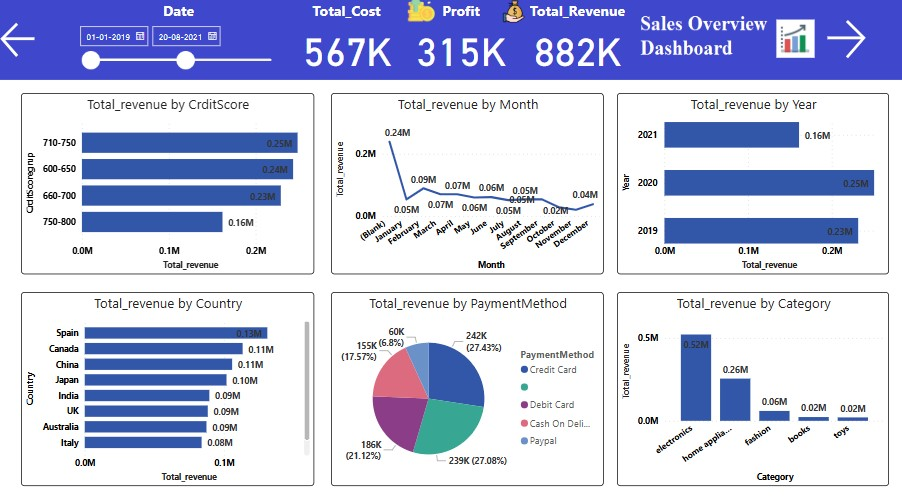

What the dashboard file says about the page in this screenshot:
{"tool":"powerbi","page":{"name":"Sales Overview Dashboard","canvas":[1280,720],"ordinal":1},"visuals":[{"type":"card","title":"Total_Revenue","fields":{"Values":["New_MEASURE.Total_revenue"]},"box":[746.8,12.7,145.4,107.3],"z":0},{"type":"card","title":"Total_Cost","fields":{"Values":["New_MEASURE.Total_Cost"]},"box":[417.9,12.7,151.1,107.3],"z":1000},{"type":"card","title":"Profit","fields":{"Values":["New_MEASURE.Profit"]},"box":[580.2,12.7,149.6,107.3],"z":2000},{"type":"lineChart","fields":{"Y":["New_MEASURE.Total_revenue"],"Category":["Customer_Insights.OrderConfirmationDate.Variation.Date Hierarchy.Month"]},"box":[471.5,144,385.4,255.5],"z":3000},{"type":"pieChart","fields":{"Category":["Customer_Insights.PaymentMethod"],"Y":["New_MEASURE.Total_revenue"]},"box":[471.5,424.9,385.4,273.9],"z":4000},{"type":"barChart","fields":{"Y":["New_MEASURE.Total_revenue"],"Category":["Customer_Insights.OrderConfirmationDate.Variation.Date Hierarchy.Year"]},"box":[875.3,144,384,255.5],"z":5000},{"type":"slicer","title":"Date","fields":{"Values":["Customer_Insights.OrderConfirmationDate"]},"box":[104.5,12.7,303.5,98.8],"z":6000},{"type":"actionButton","box":[1164.7,29.6,94.6,72],"z":7000},{"type":"actionButton","box":[0,33.9,158.1,64.9],"z":8000},{"type":"columnChart","fields":{"Category":["Customer_Insights.Category"],"Y":["New_MEASURE.Total_revenue"]},"box":[875.3,424.9,384,273.9],"z":9000},{"type":"barChart","fields":{"Category":["Customer_Insights.Country"],"Y":["New_MEASURE.Total_revenue"]},"box":[33.9,424.9,413.6,273.9],"z":10000},{"type":"image","box":[568.9,0,59.3,48],"z":11000},{"type":"image","box":[703.1,8.5,53.6,40.9],"z":12000},{"type":"image","box":[1067.3,35.3,120,63.5],"z":13000},{"type":"barChart","title":"Total_revenue by CrditScore","fields":{"Y":["New_MEASURE.Total_revenue"],"Category":["Customer_insight.CrditScoregrup"]},"box":[33.9,144,413.6,255.5],"z":14000}]}

Visuals, with their boxes in screenshot pixels (x1, y1, x2, y2), scaled from the page's 1280x720 canvas onto the 902x498 screenshot:
"Total_Revenue" card: (526,9,629,83)
"Total_Cost" card: (294,9,401,83)
"Profit" card: (409,9,514,83)
lineChart - New_MEASURE.Total_revenue x Customer_Insights.OrderConfirmationDate.Variation.Date Hierarchy.Month: (332,100,604,276)
pieChart - Customer_Insights.PaymentMethod x New_MEASURE.Total_revenue: (332,294,604,483)
barChart - New_MEASURE.Total_revenue x Customer_Insights.OrderConfirmationDate.Variation.Date Hierarchy.Year: (617,100,887,276)
"Date" slicer: (74,9,288,77)
actionButton: (821,20,887,70)
actionButton: (0,23,111,68)
columnChart - Customer_Insights.Category x New_MEASURE.Total_revenue: (617,294,887,483)
barChart - Customer_Insights.Country x New_MEASURE.Total_revenue: (24,294,315,483)
image: (401,0,443,33)
image: (495,6,533,34)
image: (752,24,837,68)
"Total_revenue by CrditScore" barChart: (24,100,315,276)
